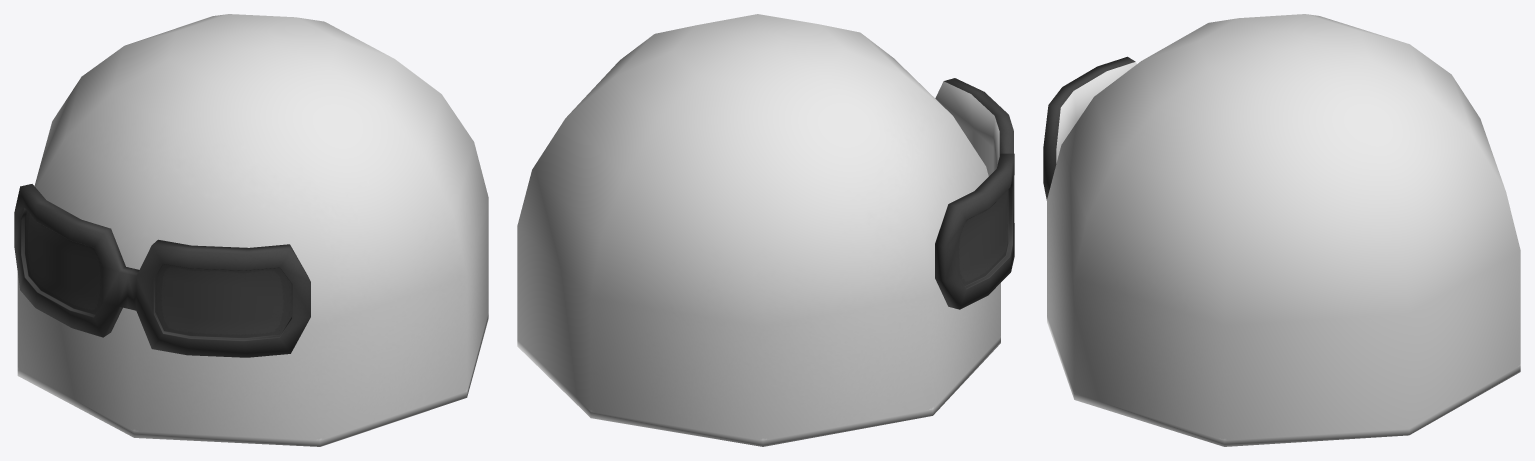
File: Android_head_white.dae
The picture shows the model from 3 angles, left to right: view 1: azimuth 30°, elevation 25°; view 2: azimuth 150°, elevation 25°; view 3: azimuth 270°, elevation 25°; orthographic projection.
Visible parts, largest first — view 1: Head, Glasses; view 2: Head, Glasses; view 3: Head, Glasses.
Boxes of the visible parts, x1,y1,x2,y2 form: Head: (17,14,488,446); Glasses: (14,184,310,357); Head: (517,14,1000,446); Glasses: (935,78,1014,309); Head: (1047,14,1520,446); Glasses: (1043,56,1136,200).
Size of the model in its own units: 2.03 by 1.95 by 1.38.
3 materials, 3 textured.
